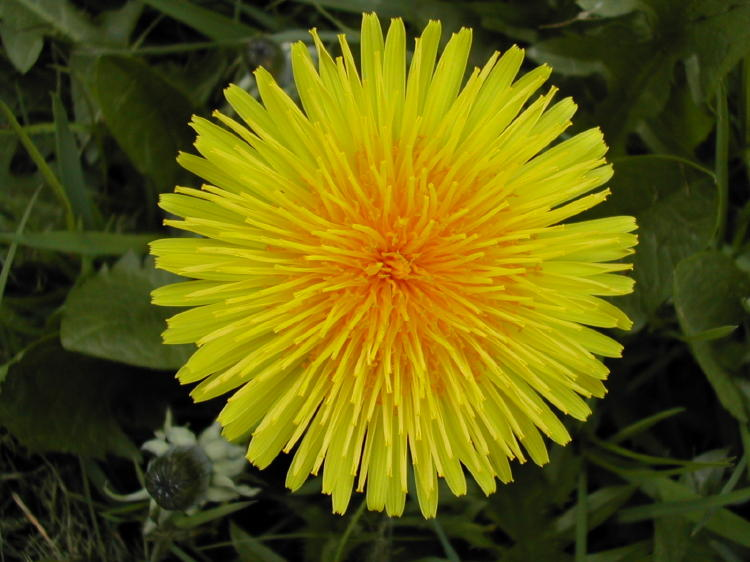dandelion: (170, 29, 638, 504)
